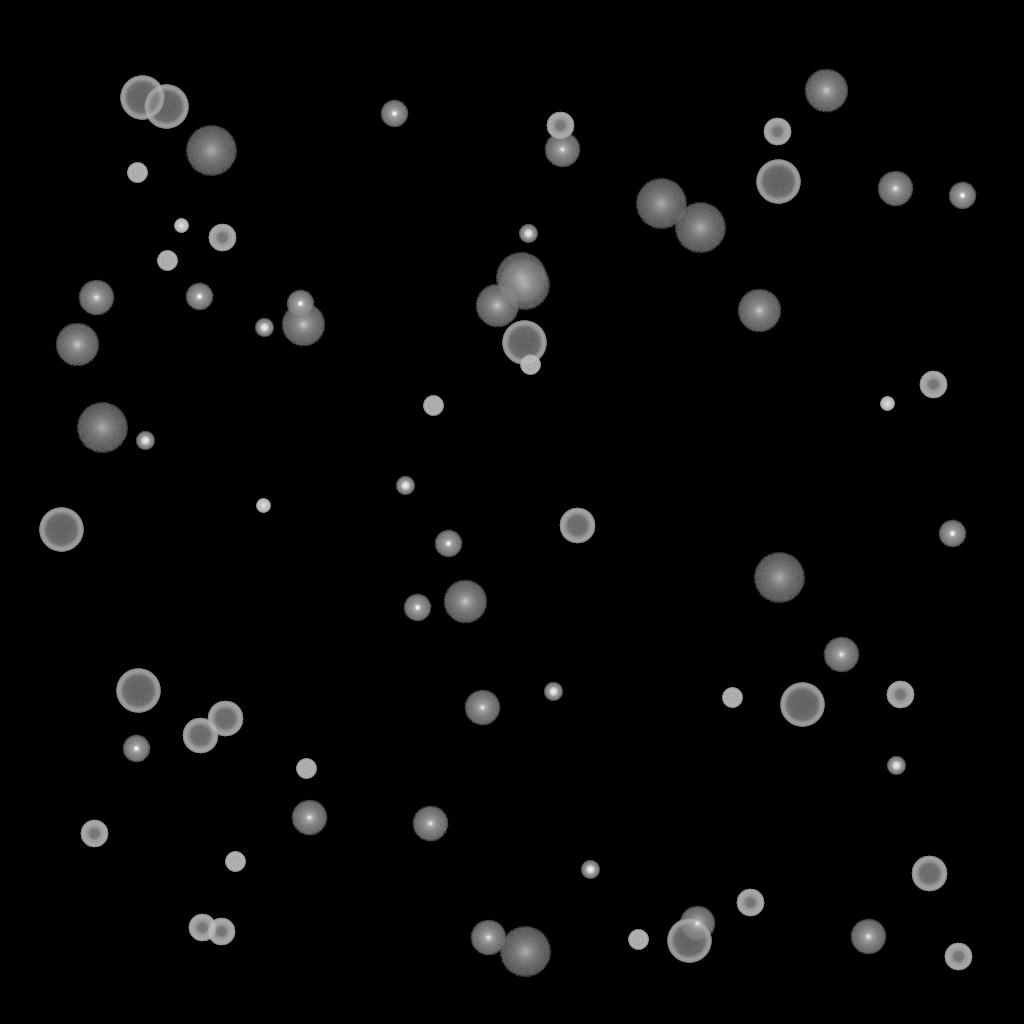depth:-10: (122, 735, 150, 763), (948, 182, 976, 210), (434, 530, 462, 558), (403, 594, 431, 622), (938, 520, 966, 548), (185, 283, 213, 311), (380, 100, 408, 128), (286, 290, 314, 318)
depth:-20: (544, 683, 562, 701), (519, 225, 537, 243), (581, 861, 599, 879), (255, 319, 273, 337), (136, 432, 154, 450), (396, 477, 414, 495), (887, 757, 905, 775)
depth:-30: (256, 499, 270, 513), (880, 397, 894, 411), (174, 219, 188, 233)
depth:-40: (628, 930, 648, 950), (423, 396, 443, 416), (127, 163, 147, 183), (722, 688, 742, 708), (157, 251, 177, 271), (225, 852, 245, 872), (296, 759, 316, 779), (520, 355, 540, 375)
depth:-50: (886, 681, 914, 709), (80, 820, 108, 848), (763, 118, 791, 146), (188, 914, 216, 942), (546, 112, 574, 140), (208, 224, 236, 252), (207, 918, 235, 946), (919, 371, 947, 399), (944, 943, 972, 971), (736, 889, 764, 917)
depth:-60: (182, 718, 218, 754), (207, 701, 243, 737), (559, 508, 595, 544), (911, 856, 947, 892)
depth:-70: (756, 160, 800, 204), (120, 76, 164, 120), (116, 669, 160, 713), (502, 321, 546, 365), (144, 85, 188, 129), (39, 508, 83, 552), (780, 683, 824, 727), (667, 919, 711, 963)
depth:0: (823, 637, 859, 673), (78, 280, 114, 316), (877, 171, 913, 207), (679, 906, 715, 942), (464, 690, 500, 726), (412, 806, 448, 842), (850, 919, 886, 955), (470, 920, 506, 956), (544, 132, 580, 168), (291, 800, 327, 836)
depth:10: (475, 284, 519, 328), (281, 303, 325, 347), (737, 289, 781, 333), (55, 323, 99, 367), (443, 580, 487, 624), (804, 69, 848, 113)
depth:20: (499, 927, 551, 977), (753, 553, 805, 603), (495, 253, 547, 303), (185, 126, 237, 176), (674, 203, 726, 253), (635, 179, 687, 229), (498, 260, 550, 310), (76, 403, 128, 453)
